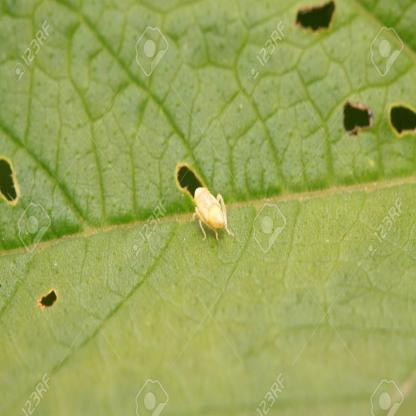Green-Leafhopper: (191, 179, 235, 245)
